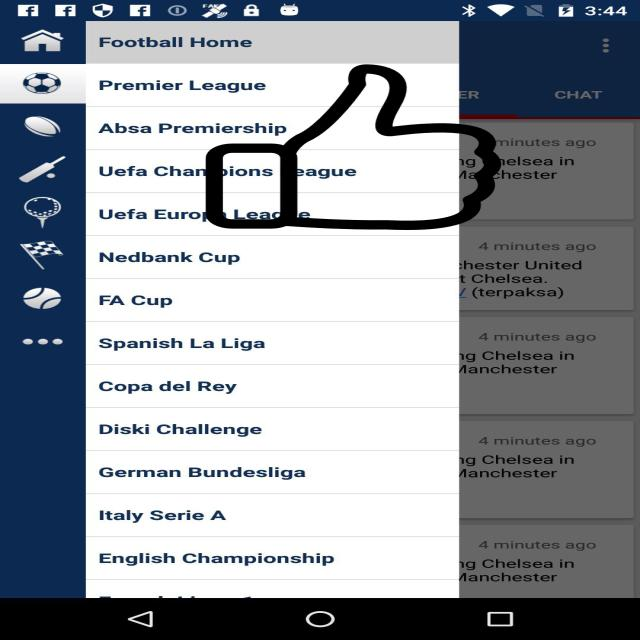privacy zuckering: (202, 64, 506, 230)
